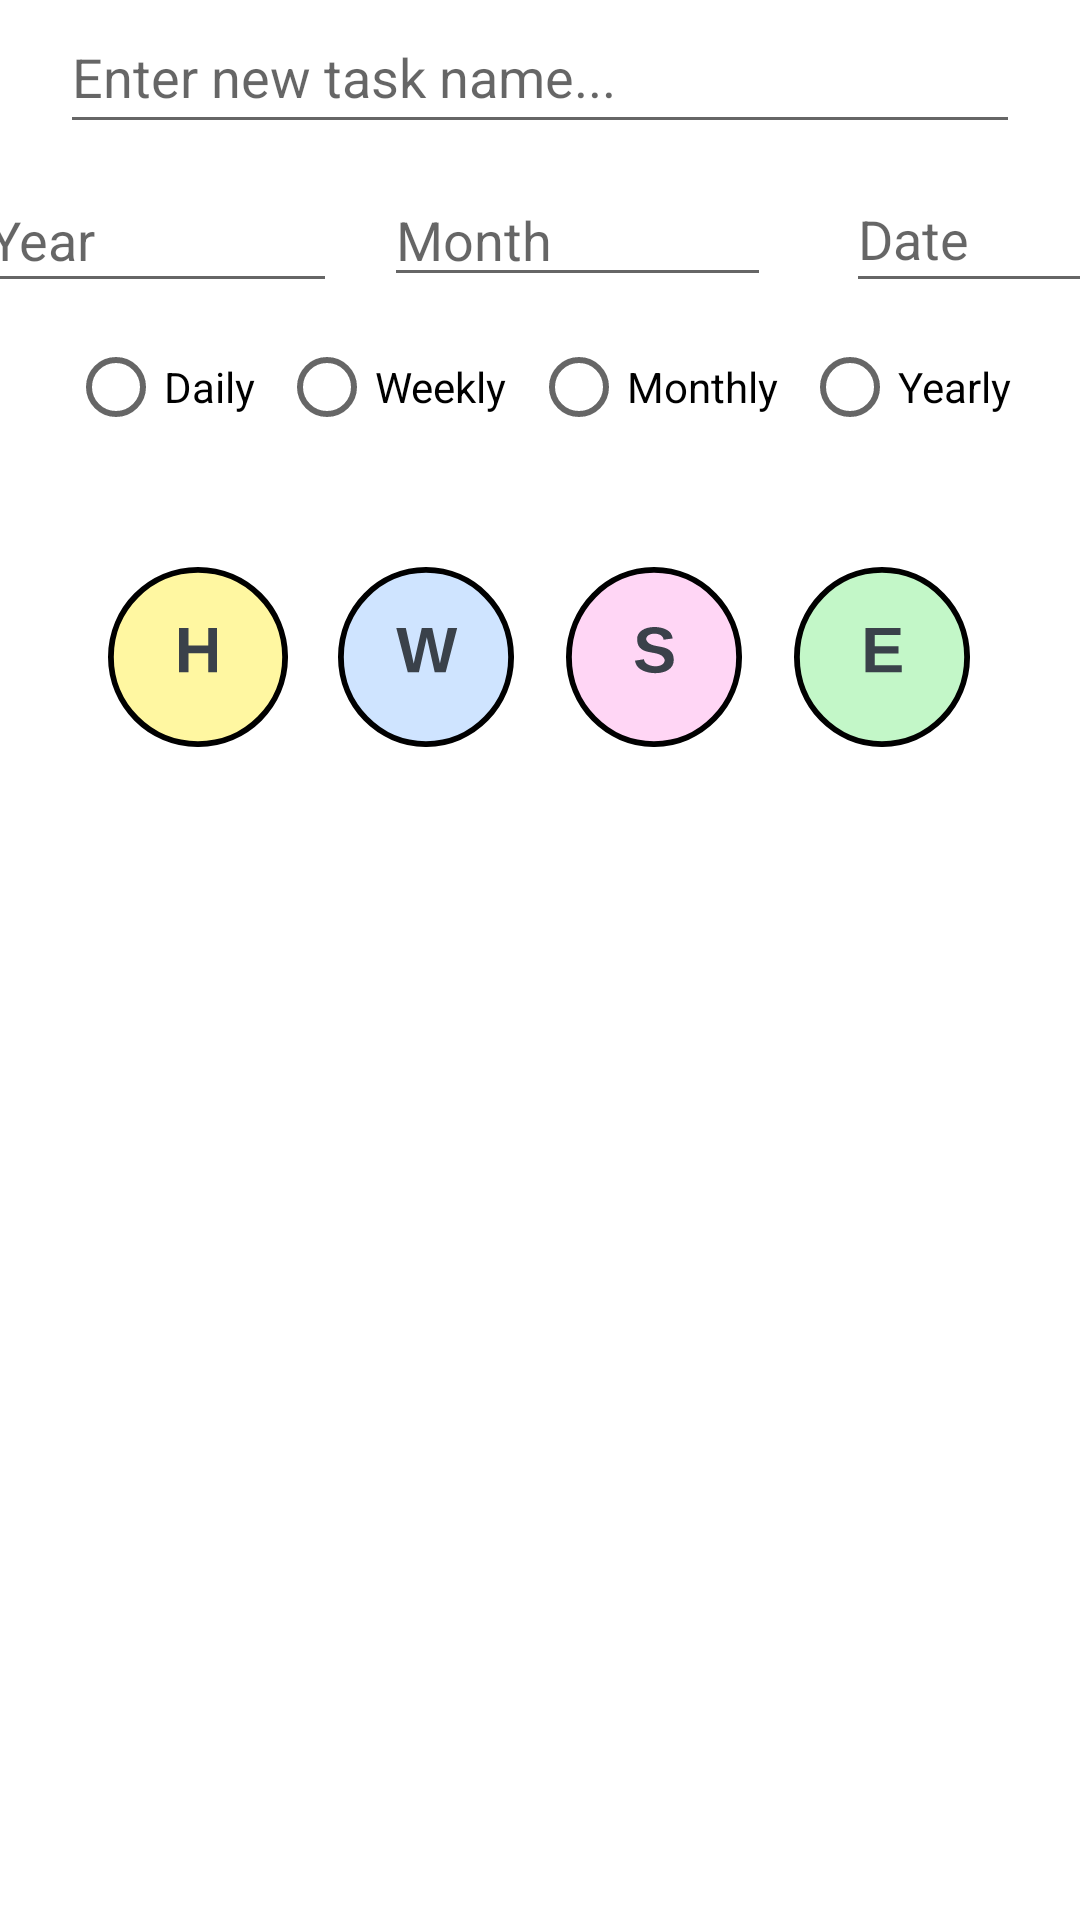

Named icons in this screenshot (1080 x 1920) and their centers, (x=x, y=y):
errand tag: (x=882, y=657)
home tag: (x=198, y=657)
school tag: (x=654, y=657)
work tag: (x=426, y=657)
